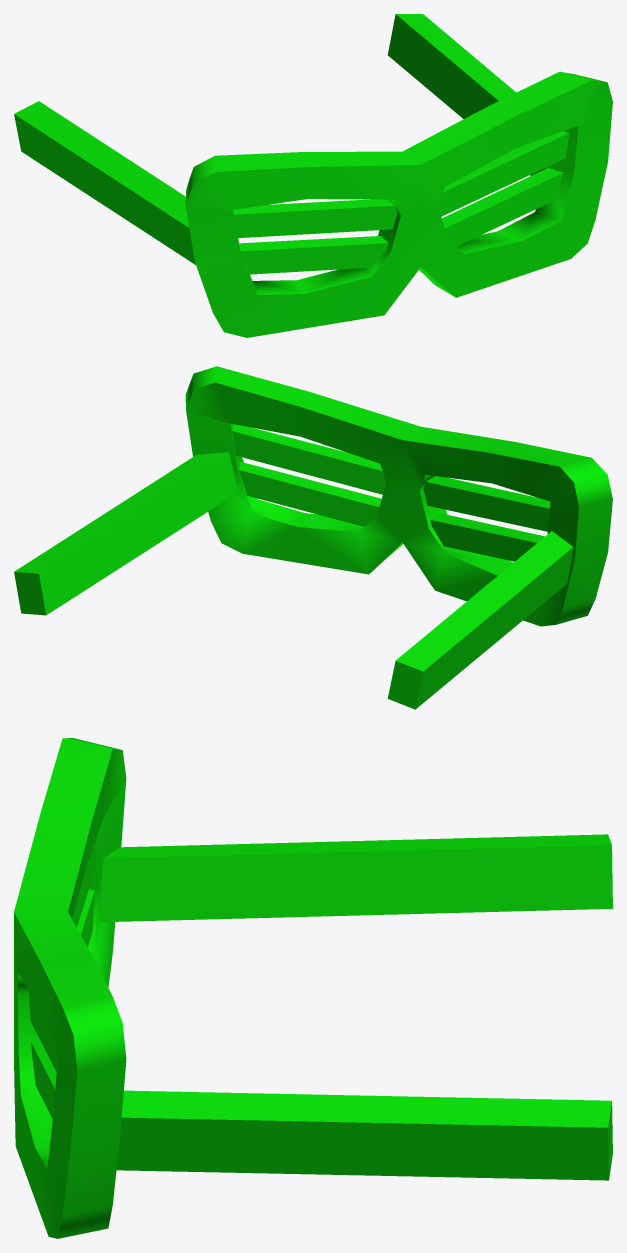
Rendered from RaveSkeleton_Gafas.fbx.
3 renders of one model, top to bottom at view 1: azimuth 30°, elevation 25°; view 2: azimuth 150°, elevation 25°; view 3: azimuth 270°, elevation 25°, orthographic. The views are drawn at different scales.
Parts seen in each view (by area): view 1: Gafa; view 2: Gafa; view 3: Gafa.
Part boxes in pixels (bbox=[...]): Gafa: bbox=[14, 14, 612, 337]; Gafa: bbox=[14, 366, 612, 709]; Gafa: bbox=[14, 738, 612, 1238].
Size of the model in its own units: 3.73 by 1.41 by 3.08.
